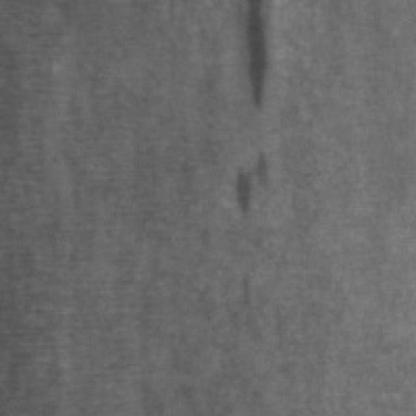inclusion: (244, 0, 285, 108), (233, 143, 281, 221)
